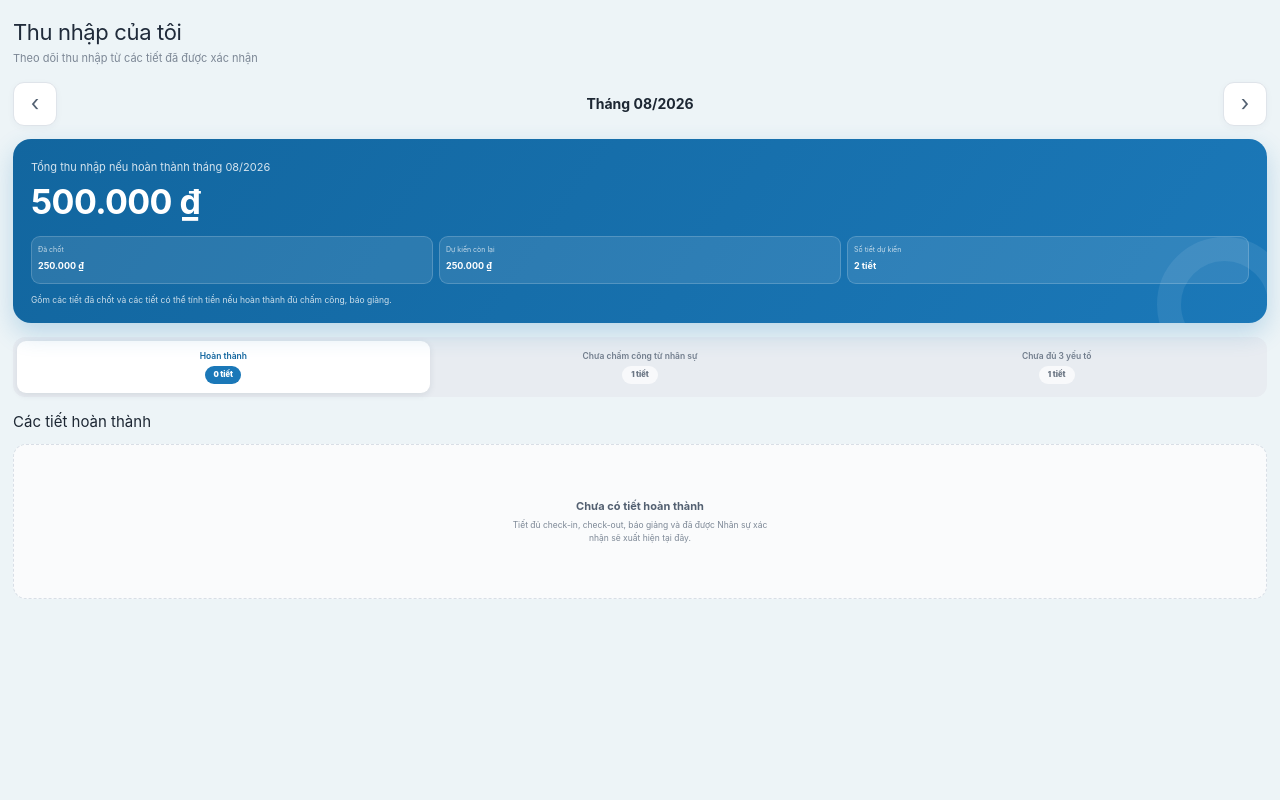
TeacherIncomeScreen › xếp tiết thiếu check-in, check-out hoặc báo giảng vào nhóm chưa đủ 3 yếu tố
The image size is (1280, 800).
Click the tab "Chưa đủ 3 yếu tố 1 tiết" at x=1057, y=367, box [850,341,1263,393]
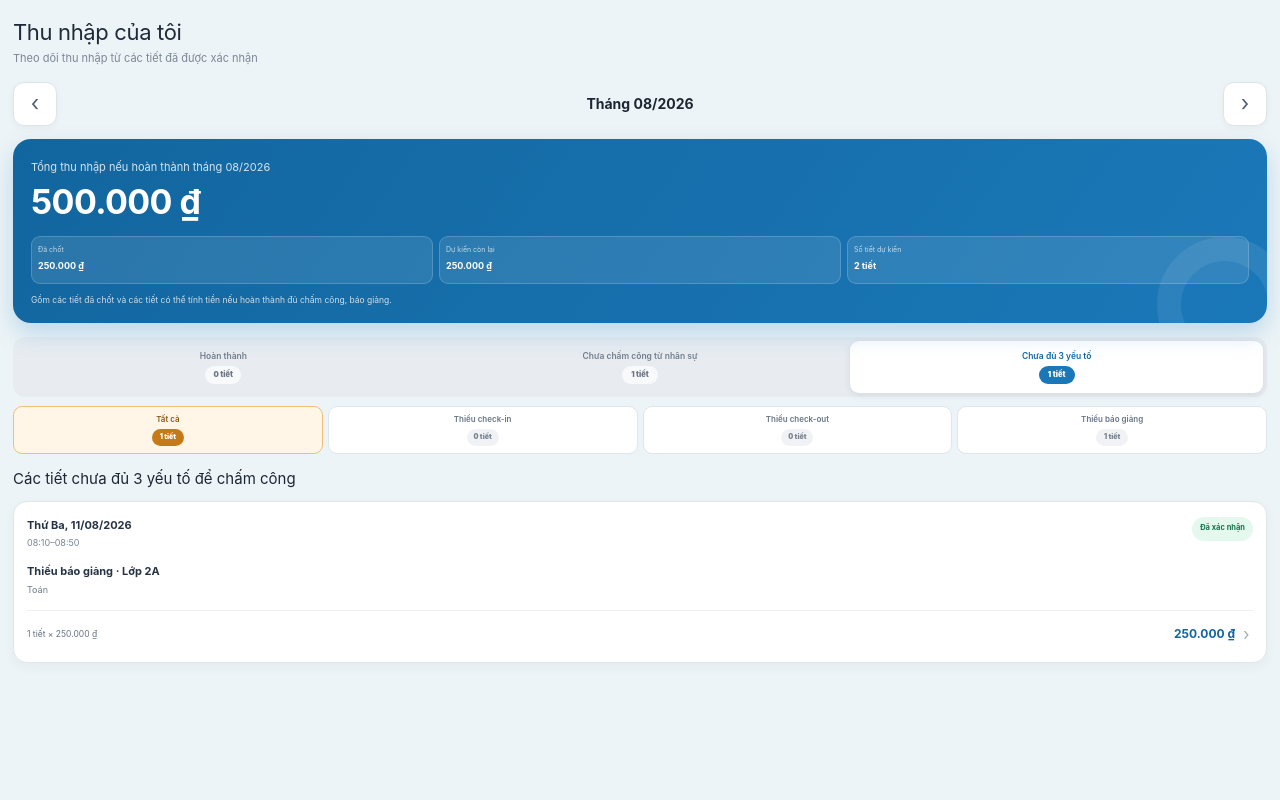
Result: the heading "Các tiết chưa đủ 3 yếu tố để chấm công" is shown at [13,469,296,488]
Result: the text "Thiếu báo giảng · Lớp 2A" is shown at [27,564,160,578]
